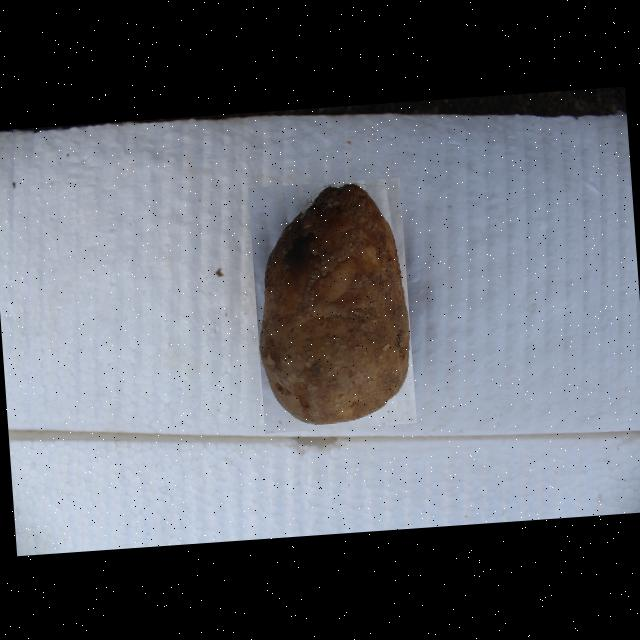Diseased-fungal potato: (247, 176, 416, 432)
